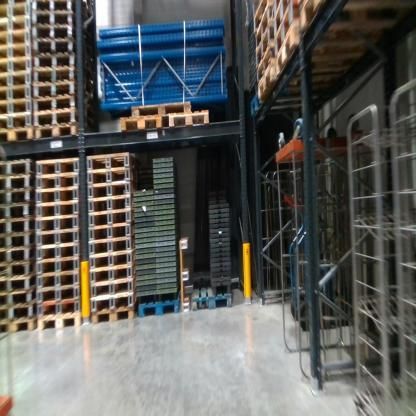pallets: (249, 0, 416, 128), (0, 304, 134, 335), (115, 100, 212, 134), (0, 115, 95, 143), (188, 286, 233, 319), (136, 299, 179, 317)
